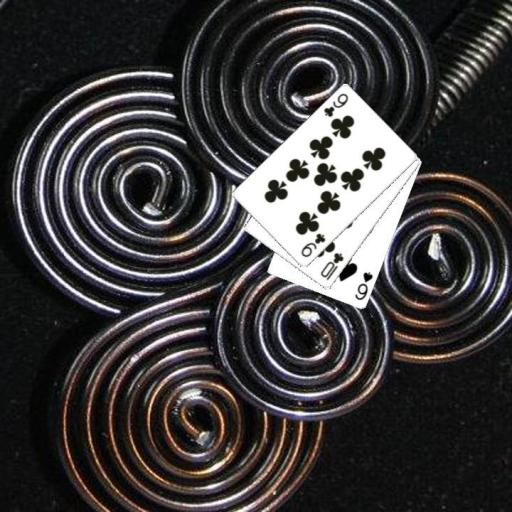10C: (317, 250, 346, 282)
6S: (352, 269, 374, 301)
9C: (298, 230, 327, 259), (321, 90, 350, 119)
